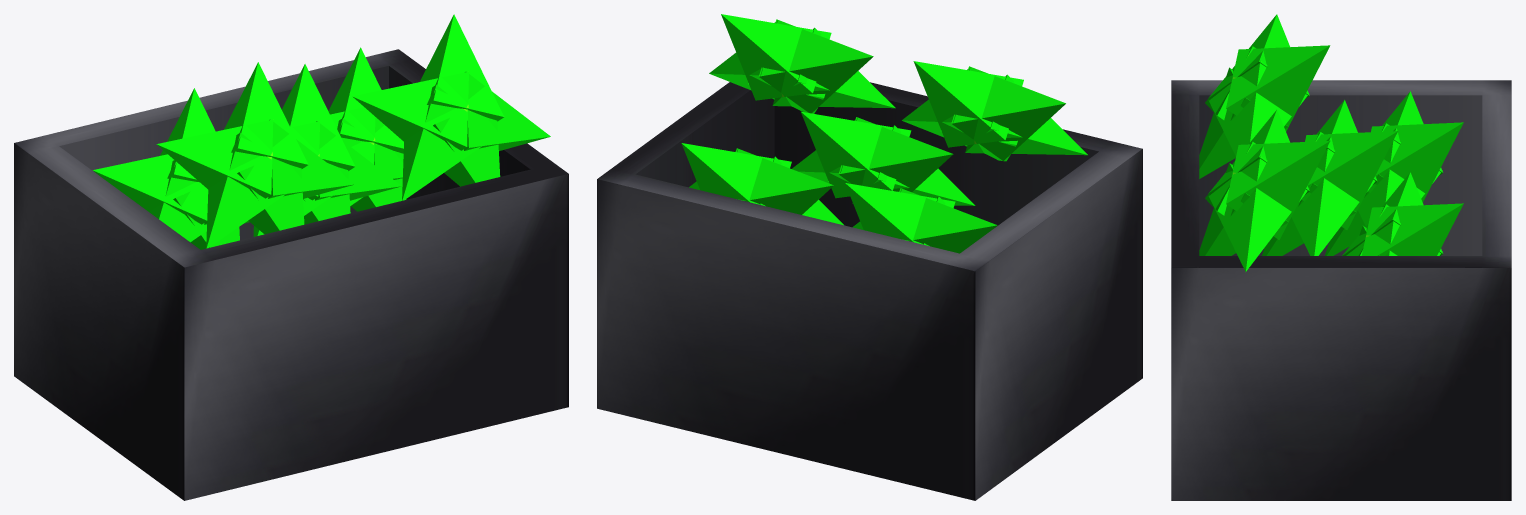
Rendered from Hako.FBX.
3 views of the same model, side by side, from view 1: azimuth 30°, elevation 25°; view 2: azimuth 150°, elevation 25°; view 3: azimuth 270°, elevation 25° (orthographic).
Parts seen in each view (by area): view 1: Box001, Pyramid023, Pyramid017, Pyramid006, Pyramid016, Pyramid022, Pyramid018, Pyramid024, Pyramid015, Pyramid001, Pyramid021, Pyramid020 (+8 smaller); view 2: Box001, Pyramid022, Pyramid016, Pyramid015, Pyramid017, Pyramid023, Pyramid011, Pyramid001, Pyramid010, Pyramid002, Pyramid006, Pyramid018 (+5 smaller); view 3: Box001, Pyramid022, Pyramid016, Pyramid015, Pyramid001, Pyramid021, Pyramid010, Pyramid014, Pyramid020, Pyramid019, Pyramid009, Pyramid017 (+8 smaller).
Part boxes in pixels (x1,y1,x2,y2): Box001: [14, 49, 568, 500]; Pyramid023: [352, 71, 468, 150]; Pyramid017: [156, 119, 273, 198]; Pyramid006: [93, 154, 208, 224]; Pyramid016: [224, 62, 308, 168]; Pyramid022: [420, 14, 503, 121]; Pyramid018: [206, 132, 301, 248]; Pyramid024: [402, 85, 497, 200]; Pyramid015: [282, 64, 355, 170]; Pyramid001: [328, 47, 403, 153]; Pyramid021: [464, 71, 550, 150]; Pyramid020: [268, 119, 354, 198]; Box001: [597, 82, 1142, 500]; Pyramid022: [721, 14, 831, 100]; Pyramid016: [913, 61, 1023, 147]; Pyramid015: [801, 111, 911, 198]; Pyramid017: [951, 66, 1065, 160]; Pyramid023: [759, 19, 873, 113]; Pyramid011: [838, 117, 953, 192]; Pyramid001: [681, 143, 791, 204]; Pyramid010: [845, 183, 955, 244]; Pyramid002: [736, 148, 833, 214]; Pyramid006: [899, 188, 997, 253]; Pyramid018: [965, 74, 1087, 155]; Box001: [1171, 80, 1511, 500]; Pyramid022: [1226, 140, 1330, 239]; Pyramid016: [1226, 45, 1330, 131]; Pyramid015: [1301, 131, 1397, 229]; Pyramid001: [1361, 203, 1463, 255]; Pyramid021: [1209, 156, 1308, 271]; Pyramid010: [1368, 122, 1463, 202]; Pyramid014: [1291, 146, 1376, 255]; Pyramid020: [1209, 60, 1308, 156]; Pyramid019: [1199, 67, 1288, 178]; Pyramid009: [1358, 138, 1442, 225]; Pyramid017: [1208, 14, 1309, 99].
Bounding box in the file's own units: 152 × 111 × 123.
Materials: 2 (2 with a texture image).
